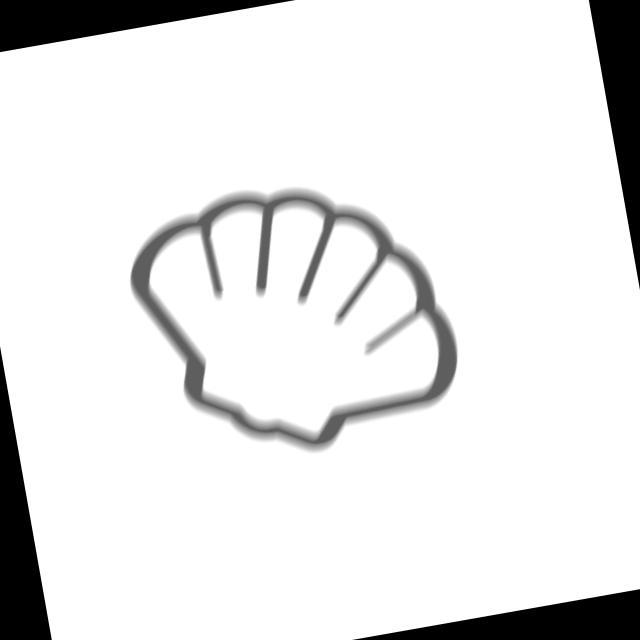shell: (109, 149, 479, 486)
